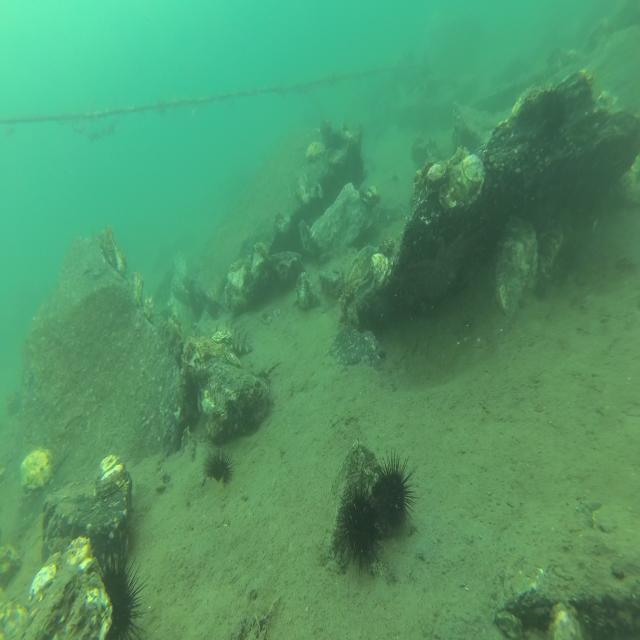echinus: (335, 478, 389, 579), (98, 545, 150, 640), (373, 447, 420, 531), (203, 446, 237, 486), (542, 87, 566, 132), (323, 124, 341, 149), (355, 152, 366, 180)
holothurian: (210, 318, 253, 354)
starfish: (403, 228, 468, 307)
